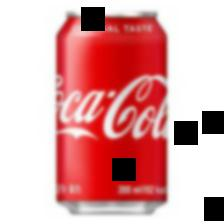cocacola: (43, 9, 182, 220)
